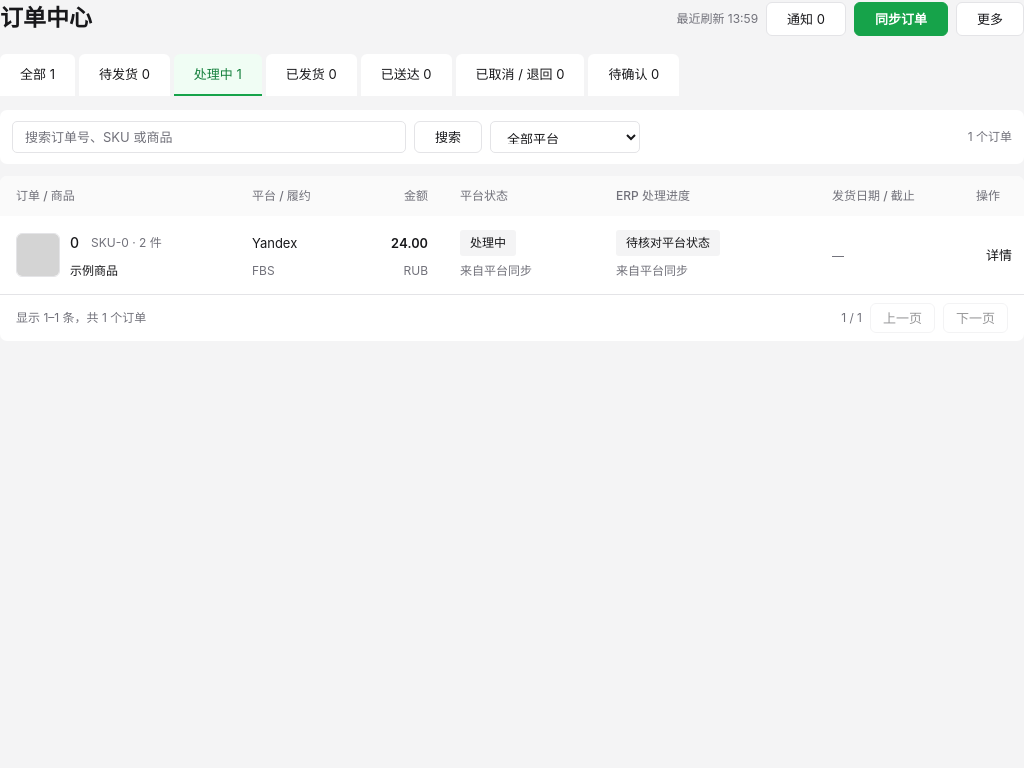
it: 紧凑订单列表 › Yandex PROCESSING / NEW_STAGE 在列表与详情区分平台主状态和附注
Expected: the text with class "order-badge" reads "处理中", left=470, top=235, right=506, bottom=250
Click the link with aria-label "查看订单 0".
click(999, 255)  # box left=986, top=247, right=1012, bottom=263
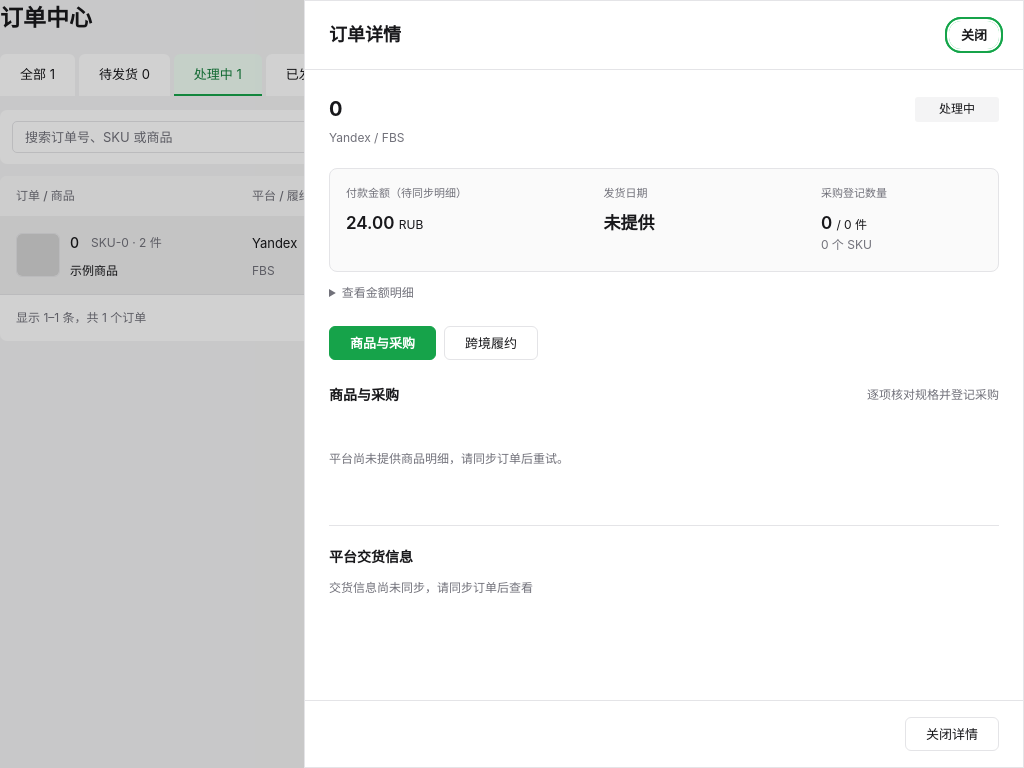
Now the text with class "order-badge" reads "处理中", box left=939, top=101, right=975, bottom=116
